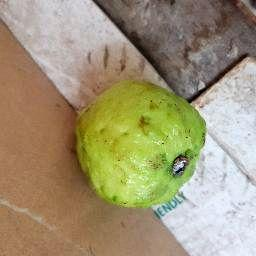guava: (73, 74, 210, 211)
